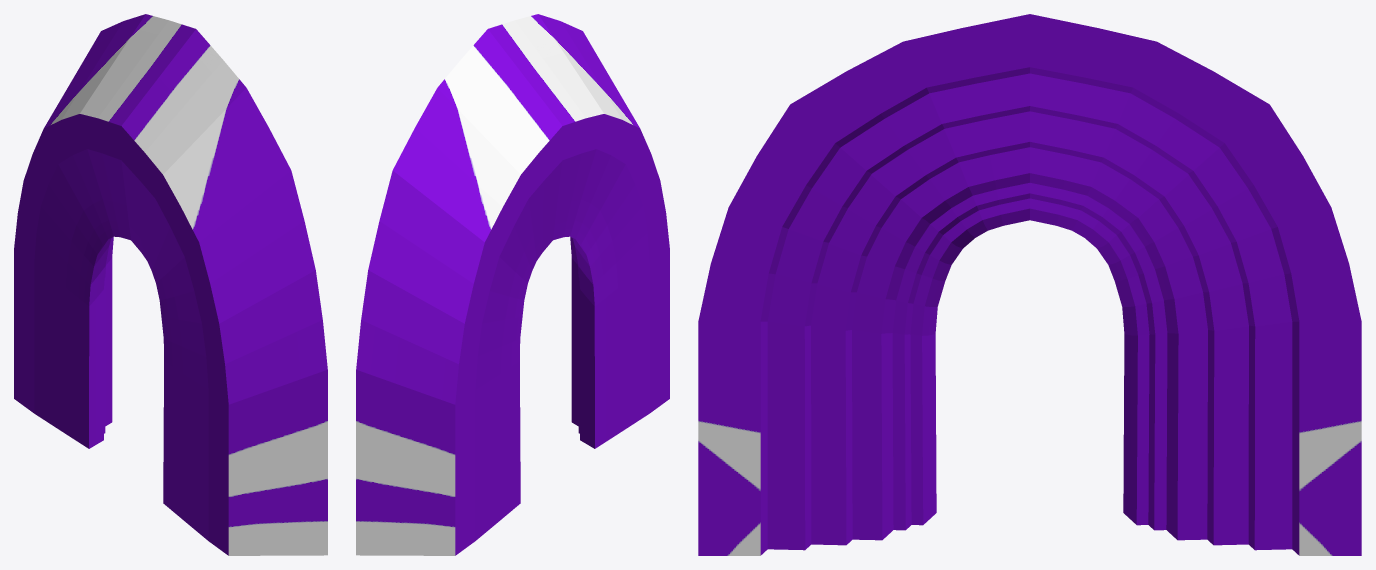
Rendered from Thronearch_low.fbx.
The picture shows the model from 3 angles, left to right: view 1: azimuth 30°, elevation 25°; view 2: azimuth 150°, elevation 25°; view 3: azimuth 270°, elevation 25°; orthographic projection. The views are drawn at different scales.
Visible parts, largest first — view 1: Thronearch_LOW; view 2: Thronearch_LOW; view 3: Thronearch_LOW.
Boxes of the visible parts, x1,y1,x2,y2 form: Thronearch_LOW: (14,14,327,555); Thronearch_LOW: (356,14,669,555); Thronearch_LOW: (698,14,1361,555).
Bounding box in the file's own units: 149 × 817 × 906.
